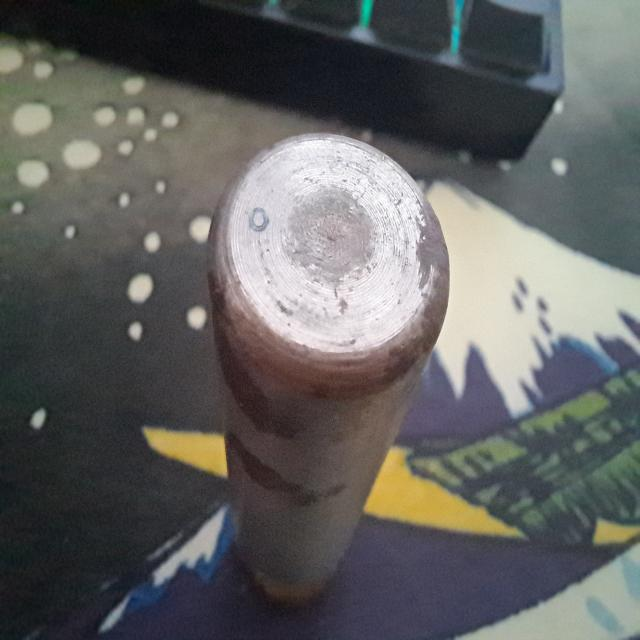defect: (245, 204, 272, 238)
planson: (207, 132, 450, 604)
